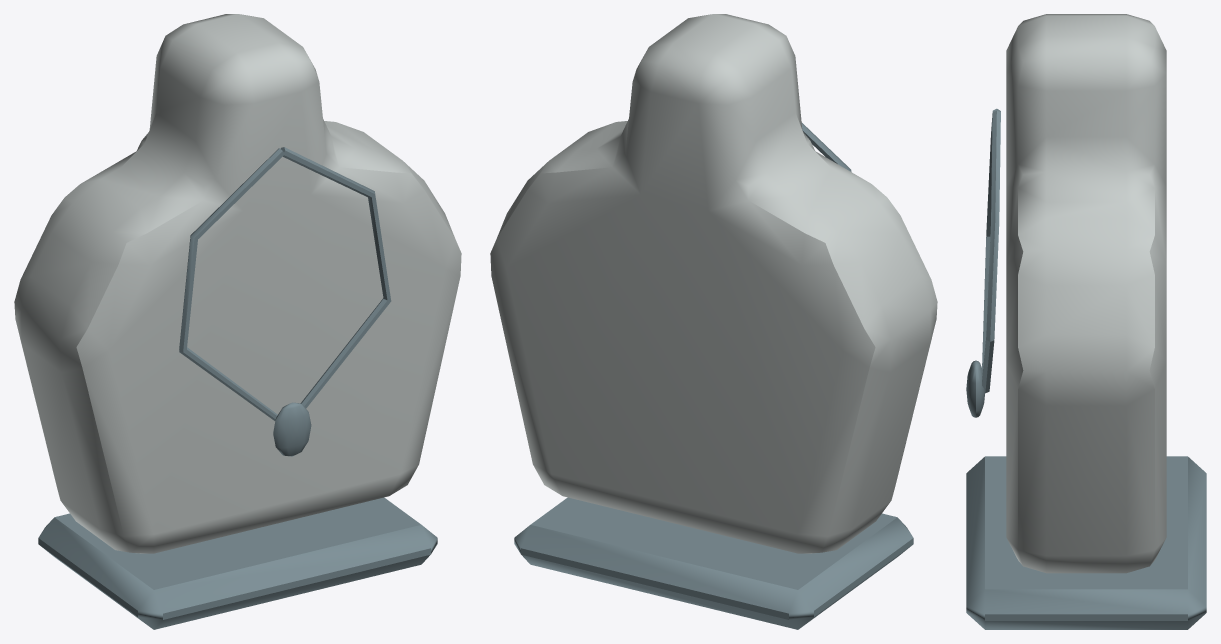
Rendered from necklace-bust.glb.
The picture shows the model from 3 angles, left to right: view 1: azimuth 30°, elevation 25°; view 2: azimuth 150°, elevation 25°; view 3: azimuth 270°, elevation 25°; orthographic projection.
Visible parts, largest first — view 1: display_bust, plinth, necklace, pendant; view 2: display_bust, plinth; view 3: display_bust, plinth, necklace, pendant.
Boxes of the visible parts, x1=… form: display_bust: x1=14, y1=14, x2=461, y2=553; plinth: x1=38, y1=497, x2=437, y2=629; necklace: x1=179, y1=147, x2=391, y2=420; pendant: x1=273, y1=402, x2=311, y2=456; display_bust: x1=490, y1=14, x2=937, y2=553; plinth: x1=514, y1=497, x2=913, y2=629; display_bust: x1=1006, y1=14, x2=1166, y2=573; plinth: x1=966, y1=456, x2=1206, y2=629; necklace: x1=982, y1=108, x2=1000, y2=393; pendant: x1=966, y1=360, x2=984, y2=417.
Size of the model in its own units: 0.2893 by 0.37 by 0.15.
